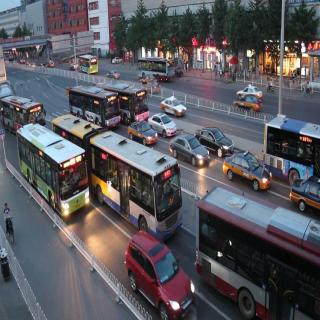BigCar: (194, 175, 320, 320), (92, 132, 185, 234), (17, 122, 89, 218), (262, 106, 320, 188), (67, 84, 119, 129), (105, 78, 149, 129), (2, 97, 49, 132)
Car: (126, 231, 196, 318), (224, 146, 272, 192), (170, 134, 214, 168), (195, 124, 234, 156), (135, 55, 176, 80), (148, 110, 176, 138), (128, 120, 159, 145), (159, 91, 185, 116), (234, 92, 261, 115), (236, 82, 263, 100), (79, 54, 98, 75), (144, 79, 162, 94), (139, 71, 157, 84), (106, 69, 122, 80), (112, 55, 124, 66)
